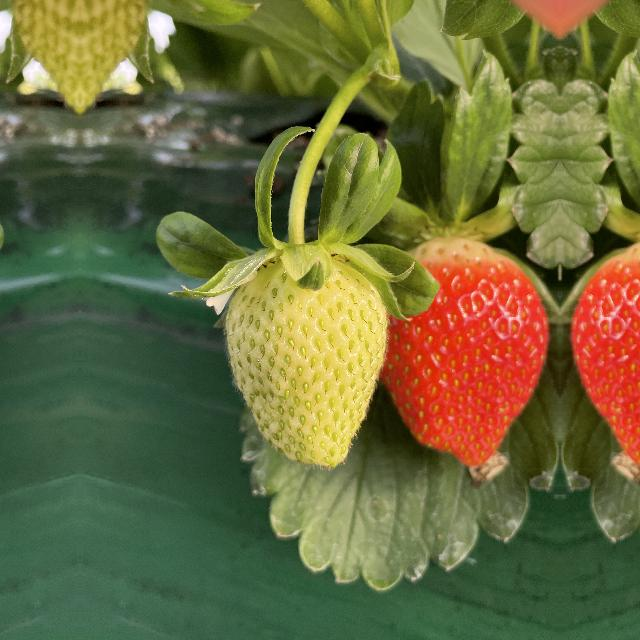Health_25: (218, 247, 390, 471)
